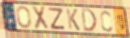C: (100, 10, 113, 33)
D: (81, 7, 98, 33)
K: (66, 8, 82, 32)
O: (16, 5, 32, 29)
X: (31, 5, 50, 31)
Z: (48, 8, 66, 31)
